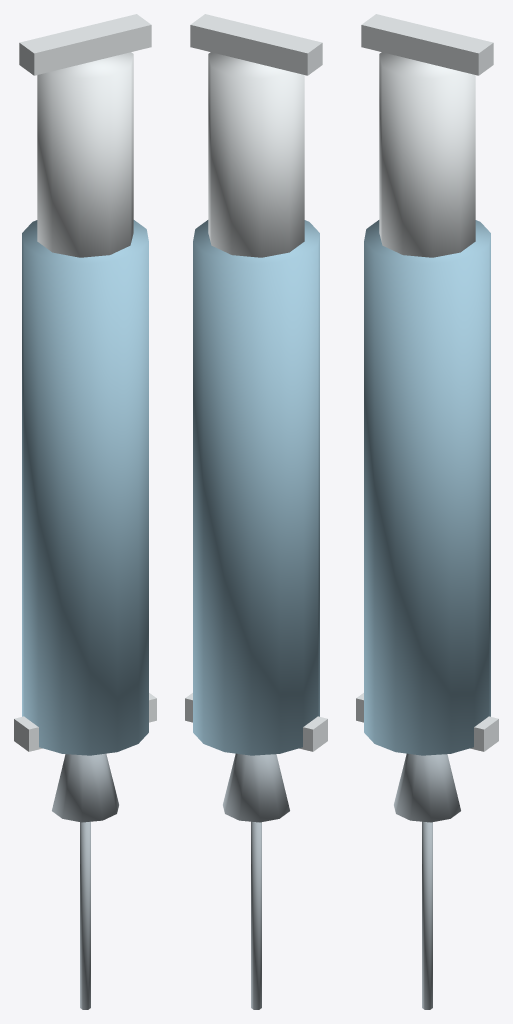
File: wrong-vaccine-syringe.glb
3 views of the same model, side by side, from view 1: azimuth 30°, elevation 25°; view 2: azimuth 150°, elevation 25°; view 3: azimuth 330°, elevation 25° (orthographic).
Parts seen in each view (by area): view 1: wrong-vaccine-syringe; view 2: wrong-vaccine-syringe; view 3: wrong-vaccine-syringe.
Boxes of the visible parts, x1,y1,x2,y2 form: wrong-vaccine-syringe: [14, 14, 156, 1009]; wrong-vaccine-syringe: [185, 14, 327, 1009]; wrong-vaccine-syringe: [356, 14, 498, 1009].
Size of the model in its own units: 0.06 by 0.436 by 0.052.
